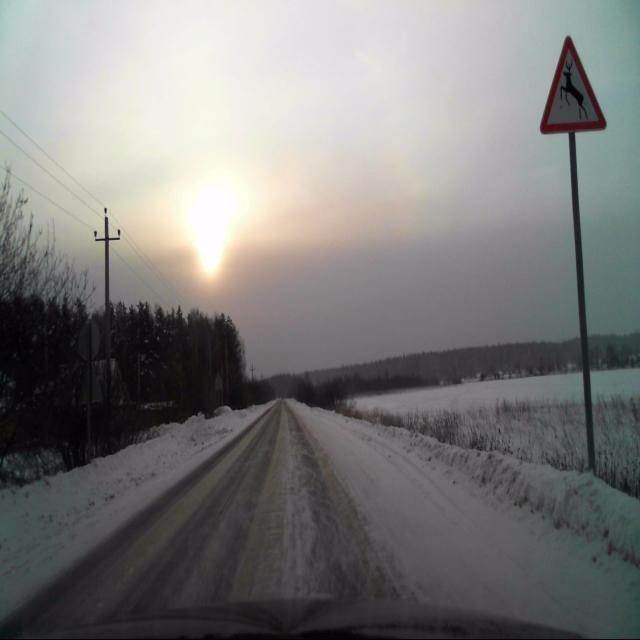road sign: (567, 125, 598, 477), (540, 31, 607, 131)
